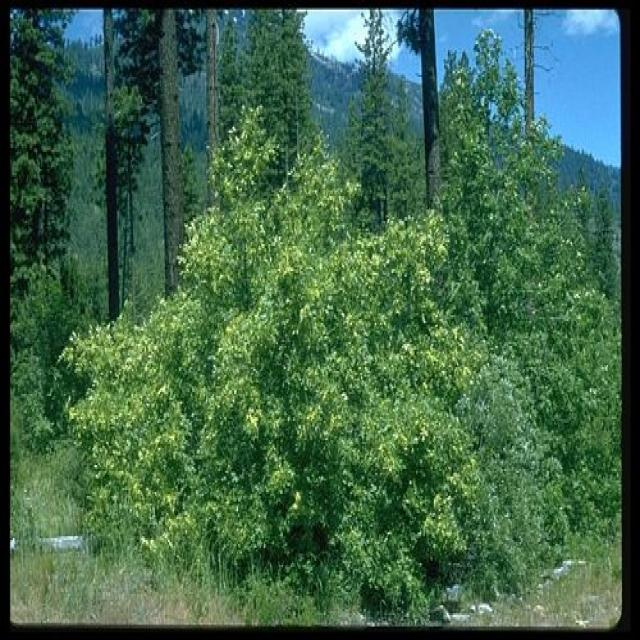Abies: (56, 30, 622, 622)
